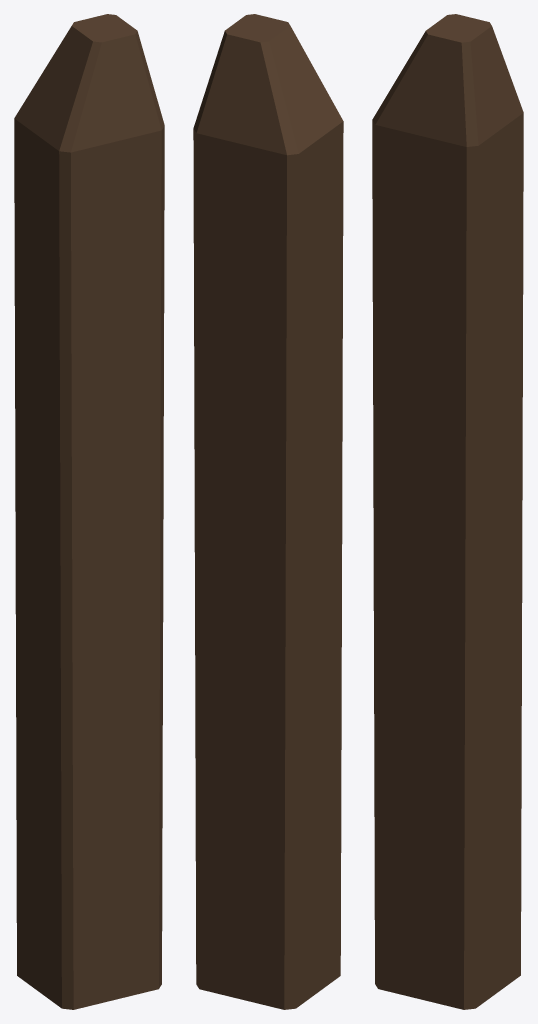
The model's file is gatepost.glb.
3 views of the same model, side by side, from view 1: azimuth 30°, elevation 25°; view 2: azimuth 150°, elevation 25°; view 3: azimuth 330°, elevation 25° (orthographic).
Parts seen in each view (by area): view 1: Gatepost; view 2: Gatepost; view 3: Gatepost.
Part boxes in pixels (left/top/right/bottom): Gatepost: left=14, top=14, right=164, bottom=1009; Gatepost: left=193, top=14, right=343, bottom=1009; Gatepost: left=372, top=14, right=523, bottom=1009.
Bounding box in the file's own units: 0.114 × 0.98 × 0.1.
